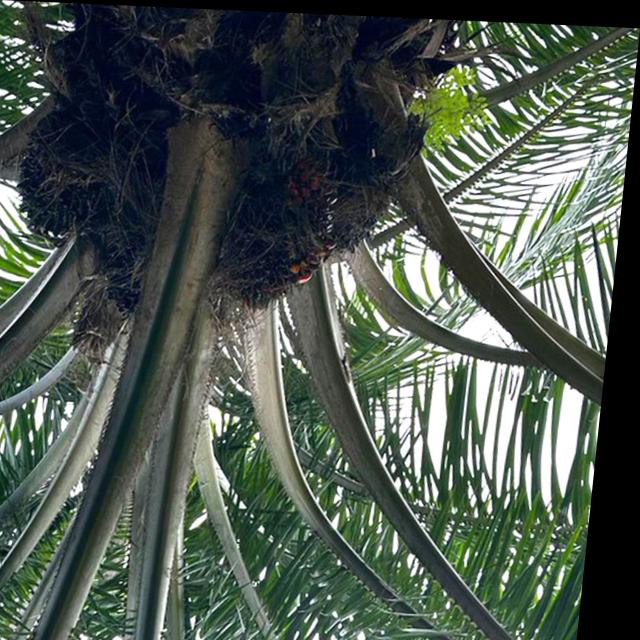ripe: (204, 148, 352, 326)
